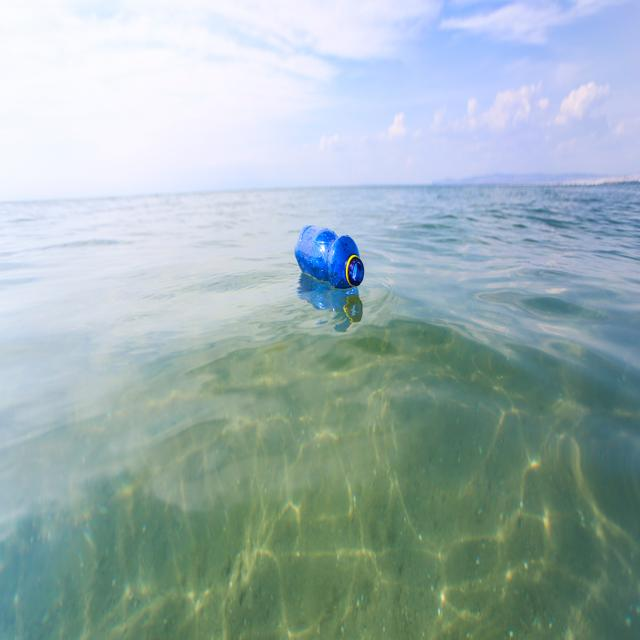bottle: (294, 225, 364, 291)
